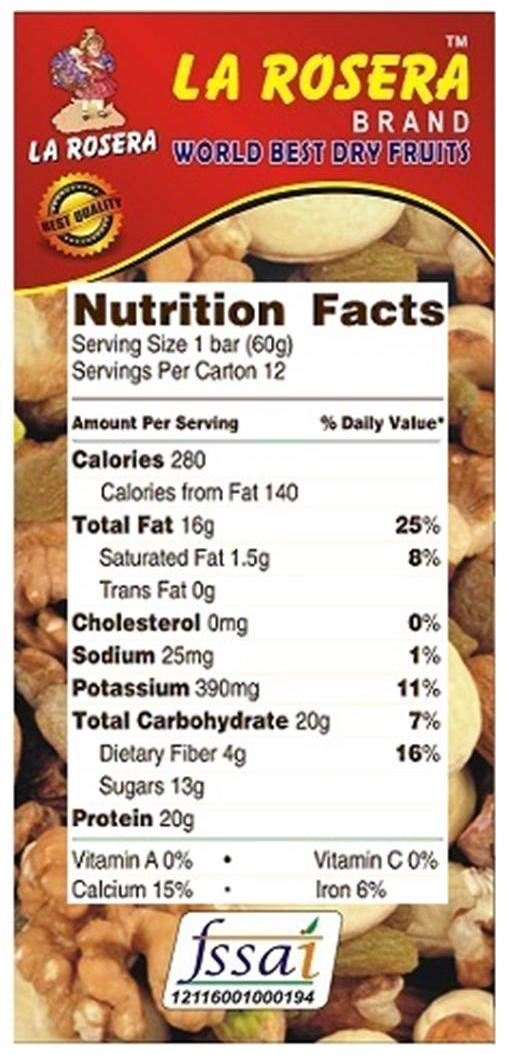fssai: (177, 918, 325, 984)
